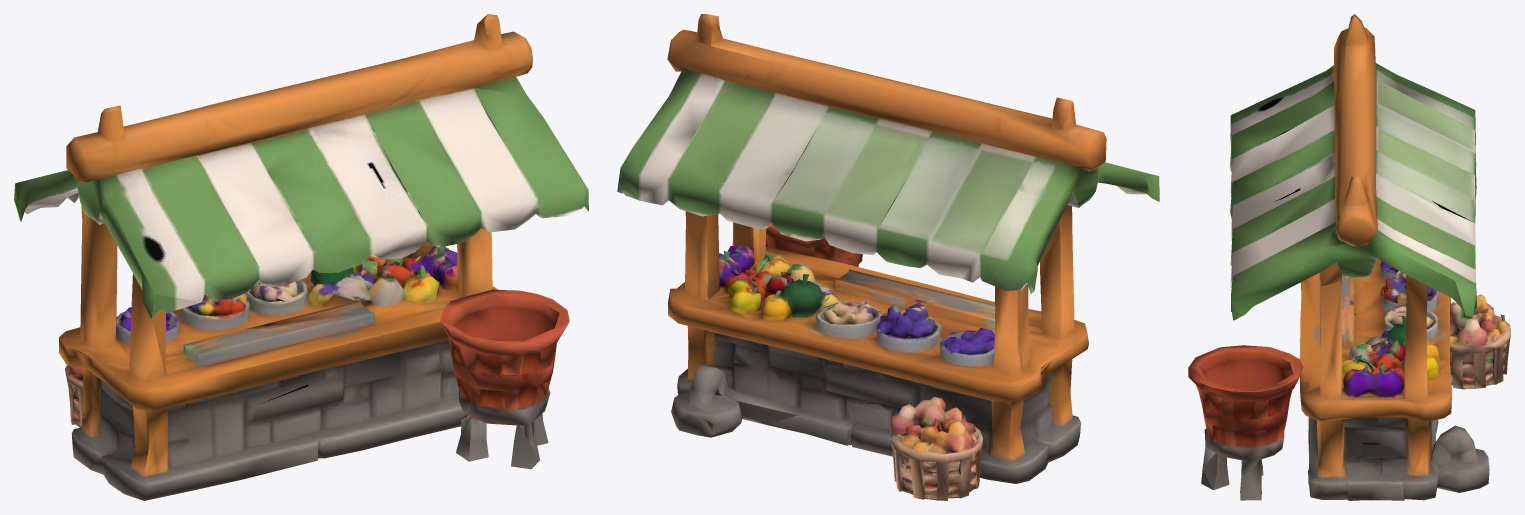
Rendered from awning_stall_1_6000.glb.
3 renders of one model, left to right at view 1: azimuth 30°, elevation 25°; view 2: azimuth 150°, elevation 25°; view 3: azimuth 270°, elevation 25°, orthographic. The views are drawn at different scales.
Parts seen in each view (by area): view 1: t6000; view 2: t6000; view 3: t6000.
Boxes of the visible parts, box(x1,y1,x2,y2) form: t6000: box(14, 14, 588, 500); t6000: box(617, 14, 1159, 500); t6000: box(1188, 14, 1510, 500).
Bounding box in the file's own units: 1.89 × 1.51 × 1.35.
Materials: 1 (1 with a texture image).
